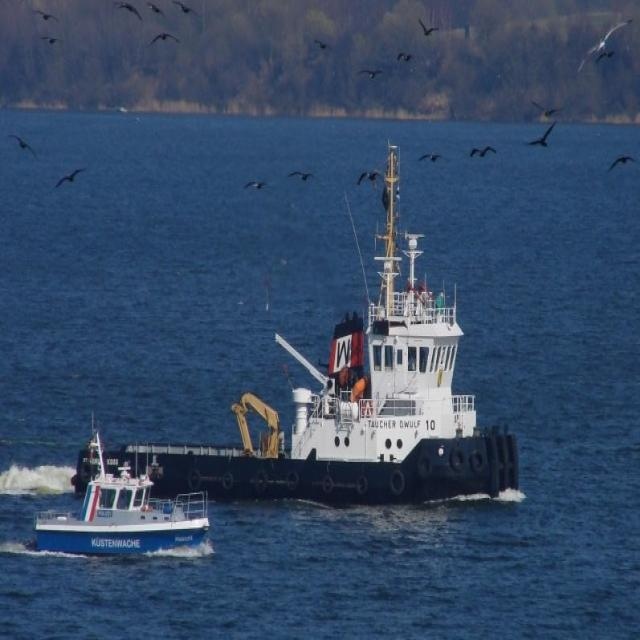houseboat: (74, 212, 524, 503), (31, 457, 210, 555)
